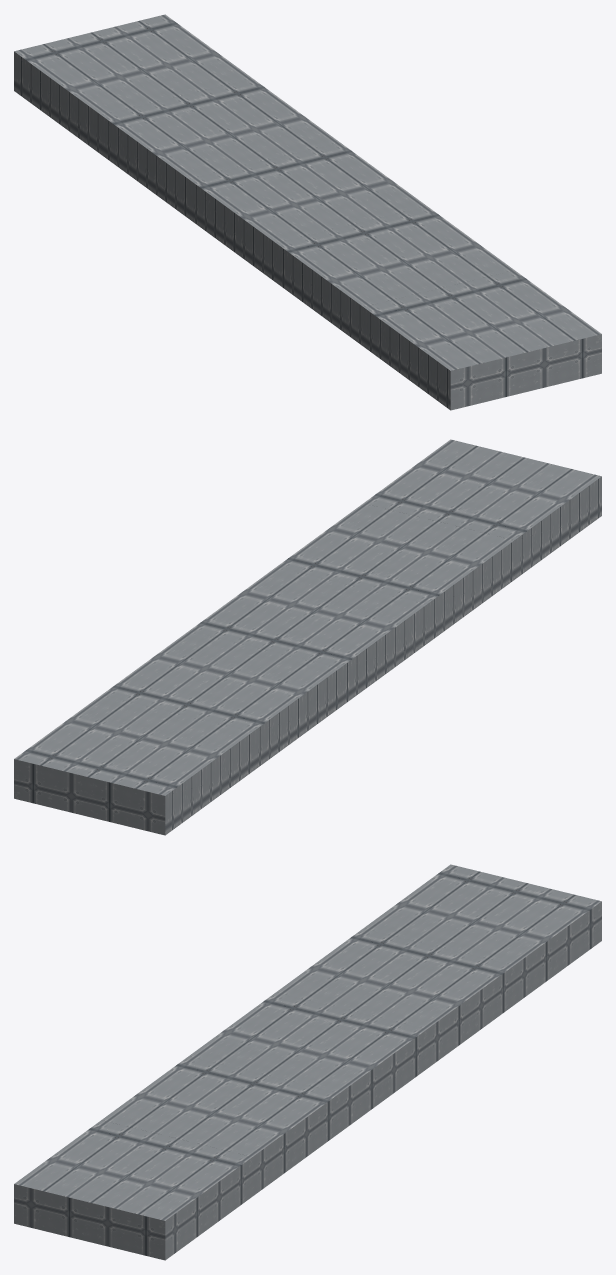
The model's file is StagePenetrate.fbx.
The picture shows the model from 3 angles, top to bottom: view 1: azimuth 30°, elevation 25°; view 2: azimuth 150°, elevation 25°; view 3: azimuth 330°, elevation 25°; orthographic projection.
Parts seen in each view (by area): view 1: floor_def162; view 2: floor_def162; view 3: floor_def162.
Part boxes in pixels (<box>): floor_def162: <box>14,14,601,410</box>; floor_def162: <box>14,439,601,835</box>; floor_def162: <box>14,864,601,1260</box>.
Size of the model in its own units: 200 by 50 by 1000.
Materials: 1 (1 with a texture image).
